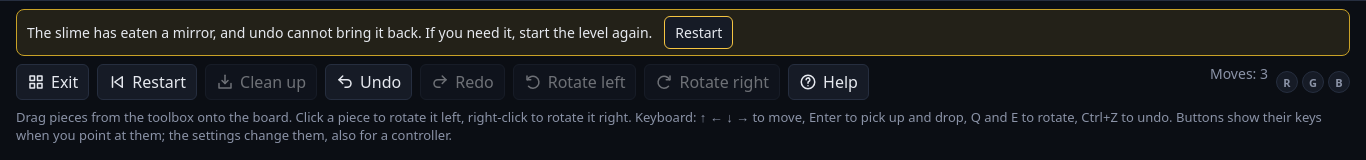
Test: Hud › says when the slime eats a mirror, and puts that away on a restart
expect the message shows "The slime has eaten a mirror": met, box [27,23,652,42]
Click the 1st button "Restart" at (699, 32), box [664,16,734,49]
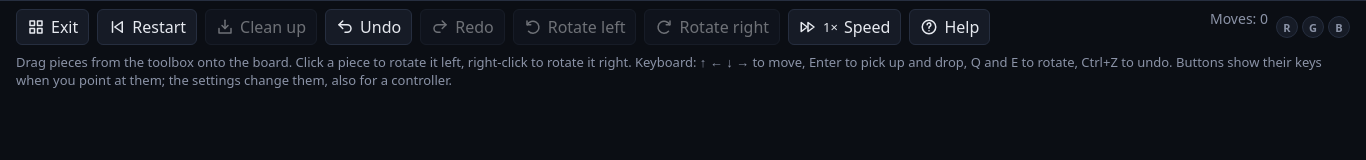
expect the text "eaten a mirror" is gone: met
